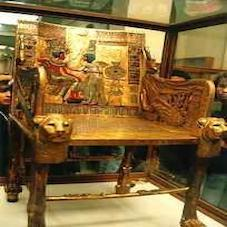chair: (1, 9, 222, 223)
